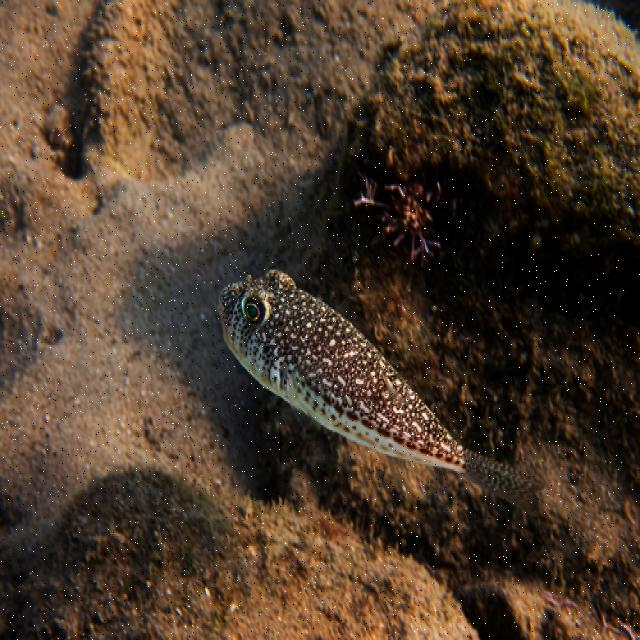Balik: (219, 270, 541, 511)
